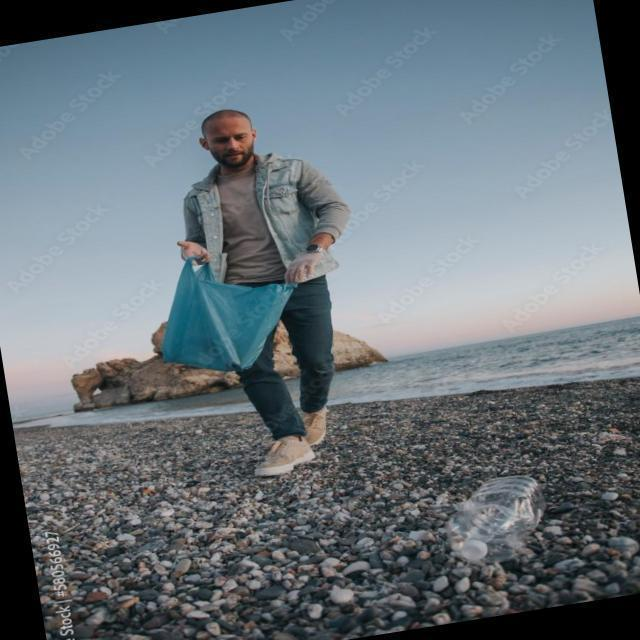Plastic_Bag: (140, 232, 306, 396)
